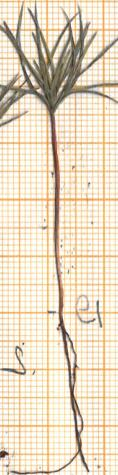flower: (0, 0, 118, 111)
root: (14, 308, 116, 475)
stem: (45, 111, 68, 307)
